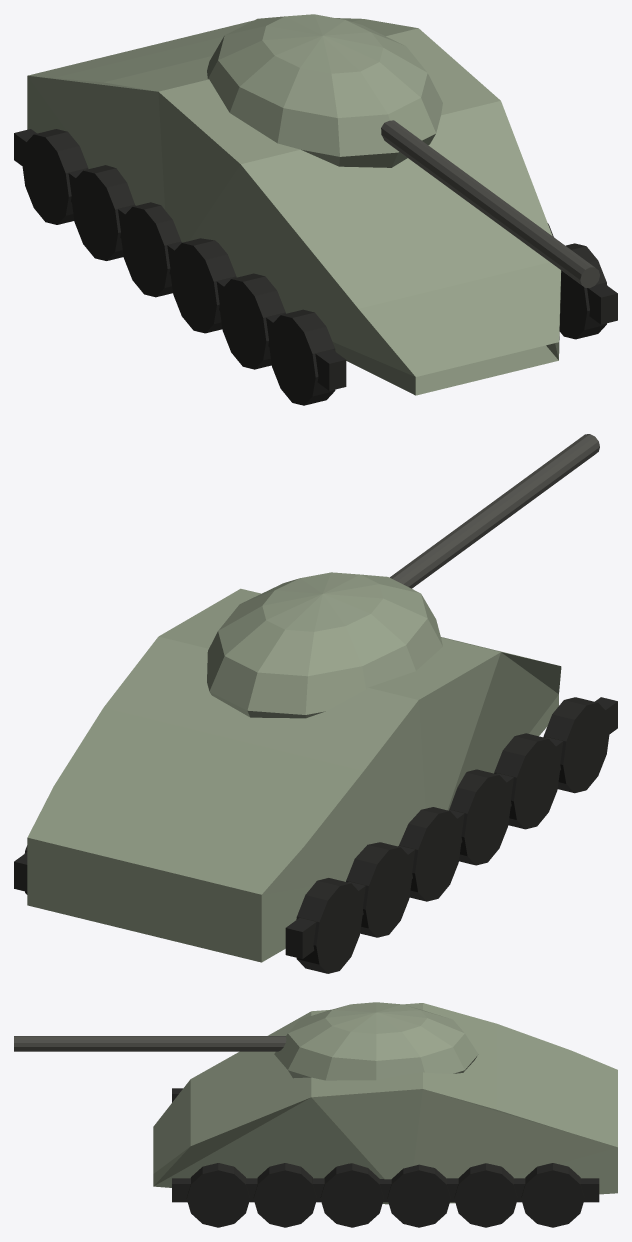
3 renders of one model, top to bottom at view 1: azimuth 30°, elevation 25°; view 2: azimuth 150°, elevation 25°; view 3: azimuth 270°, elevation 25°, orthographic. The views are drawn at different scales.
Parts seen in each view (by area): view 1: Hull, Turret, Gun, Wheel_L_01, Wheel_L_06, Wheel_L_02, Wheel_L_03, Wheel_L_05, Wheel_L_04, Wheel_R_01, Track_L, Track_R; view 2: Hull, Turret, Gun, Wheel_L_06, Wheel_L_02, Wheel_L_01, Wheel_L_05, Wheel_L_03, Wheel_L_04, Track_L; view 3: Hull, Turret, Gun, Wheel_R_06, Wheel_R_02, Wheel_R_01, Wheel_R_05, Wheel_R_03, Wheel_R_04, Track_R.
Part boxes in pixels (bbox=[...]): Hull: bbox=[27, 18, 561, 395]; Turret: bbox=[207, 14, 442, 167]; Gun: bbox=[381, 120, 599, 287]; Wheel_L_01: bbox=[269, 309, 335, 405]; Wheel_L_06: bbox=[22, 129, 88, 224]; Wheel_L_02: bbox=[219, 273, 285, 369]; Wheel_L_03: bbox=[170, 238, 236, 333]; Wheel_L_05: bbox=[71, 165, 134, 260]; Wheel_L_04: bbox=[121, 202, 181, 297]; Wheel_R_01: bbox=[559, 243, 607, 339]; Track_L: bbox=[14, 129, 346, 390]; Track_R: bbox=[587, 283, 617, 324]; Hull: bbox=[27, 588, 561, 962]; Turret: bbox=[207, 572, 442, 718]; Gun: bbox=[390, 434, 599, 588]; Wheel_L_06: bbox=[296, 878, 362, 973]; Wheel_L_02: bbox=[494, 733, 560, 829]; Wheel_L_01: bbox=[543, 697, 609, 793]; Wheel_L_05: bbox=[346, 842, 412, 937]; Wheel_L_03: bbox=[449, 769, 511, 865]; Wheel_L_04: bbox=[399, 807, 461, 901]; Track_L: bbox=[285, 697, 617, 958]; Hull: bbox=[153, 1003, 617, 1204]; Turret: bbox=[274, 1002, 478, 1080]; Gun: bbox=[14, 1036, 286, 1051]; Wheel_R_06: bbox=[521, 1163, 584, 1227]; Wheel_R_02: bbox=[253, 1163, 316, 1227]; Wheel_R_01: bbox=[186, 1163, 249, 1227]; Wheel_R_05: bbox=[454, 1163, 517, 1227]; Wheel_R_03: bbox=[320, 1163, 383, 1227]; Wheel_R_04: bbox=[387, 1164, 450, 1227]; Track_R: bbox=[172, 1178, 599, 1202].
Size of the model in its own units: 3.28 by 2.62 by 8.59.
